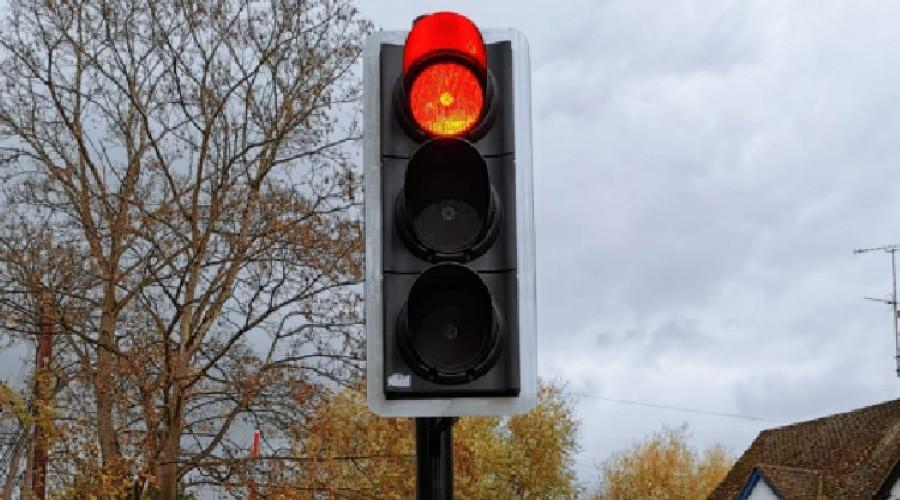traffic light: (297, 13, 581, 477)
